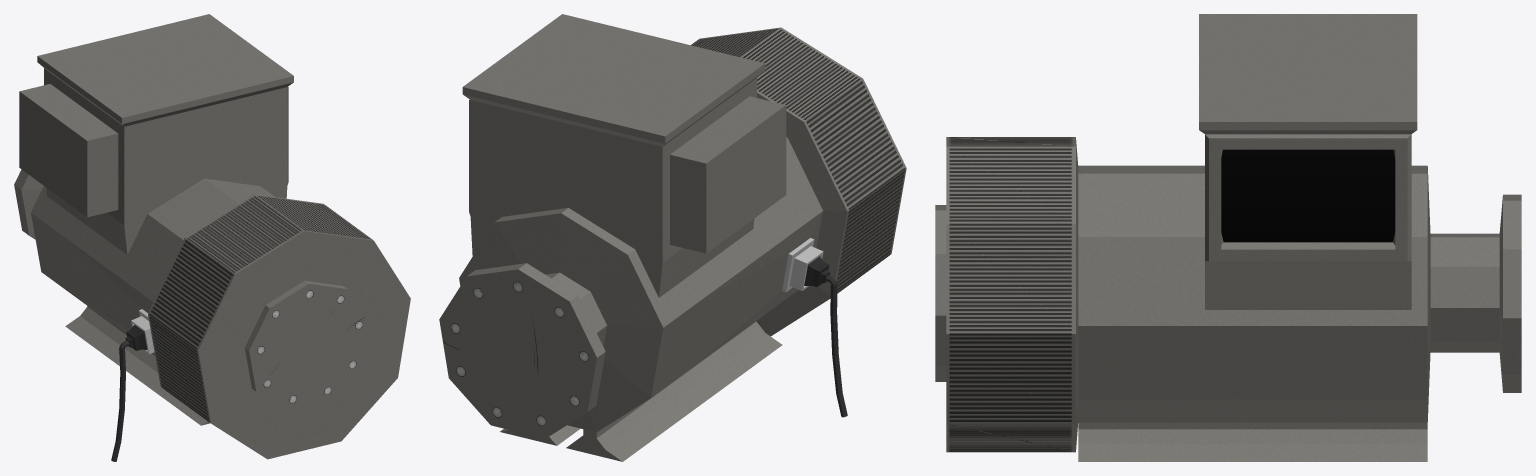
File: generator.fbx
The picture shows the model from 3 angles, left to right: view 1: azimuth 30°, elevation 25°; view 2: azimuth 150°, elevation 25°; view 3: azimuth 270°, elevation 25°; orthographic projection. The views are drawn at different scales.
Visible parts, largest first — view 1: Box, Generator, Grate_plates, Screw_plates, Cable, Socket; view 2: Box, Generator, Screw_plates, Grate_plates, Socket, Cable, Plug; view 3: Generator, Box, Grate_plates, Screen.
Part boxes in pixels (x1=…): Box: x1=19, y1=14, x2=293, y2=254; Generator: x1=14, y1=169, x2=410, y2=459; Grate_plates: x1=148, y1=194, x2=373, y2=423; Screw_plates: x1=249, y1=284, x2=368, y2=411; Cable: x1=111, y1=340, x2=129, y2=461; Socket: x1=131, y1=309, x2=154, y2=354; Box: x1=462, y1=14, x2=786, y2=297; Generator: x1=459, y1=93, x2=847, y2=461; Screw_plates: x1=439, y1=269, x2=596, y2=438; Grate_plates: x1=691, y1=27, x2=906, y2=293; Socket: x1=782, y1=238, x2=823, y2=292; Cable: x1=825, y1=274, x2=847, y2=417; Plug: x1=804, y1=256, x2=830, y2=286; Generator: x1=935, y1=140, x2=1521, y2=461; Box: x1=1199, y1=14, x2=1417, y2=309; Grate_plates: x1=946, y1=137, x2=1075, y2=452; Screen: x1=1221, y1=149, x2=1395, y2=242.
Size of the model in its own units: 187 by 242 by 319.
8 materials, 6 textured.
